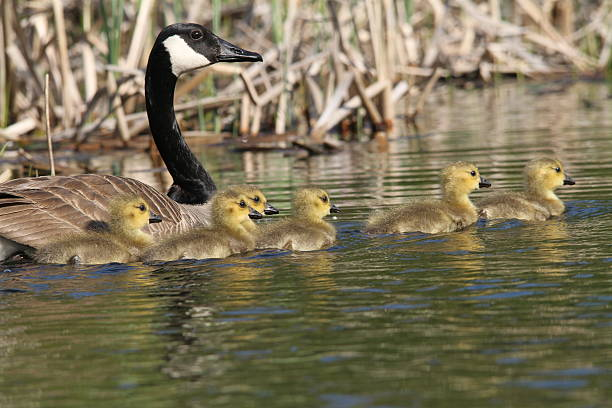goose: (1, 20, 266, 263)
